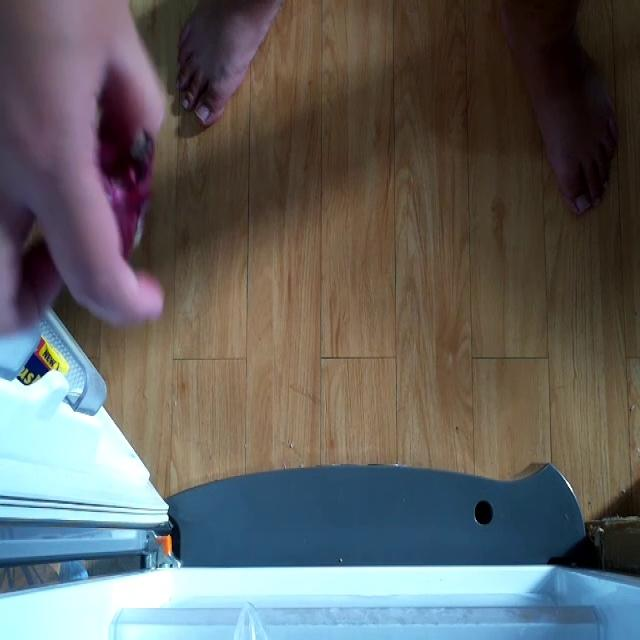onion: (94, 142, 165, 244)
